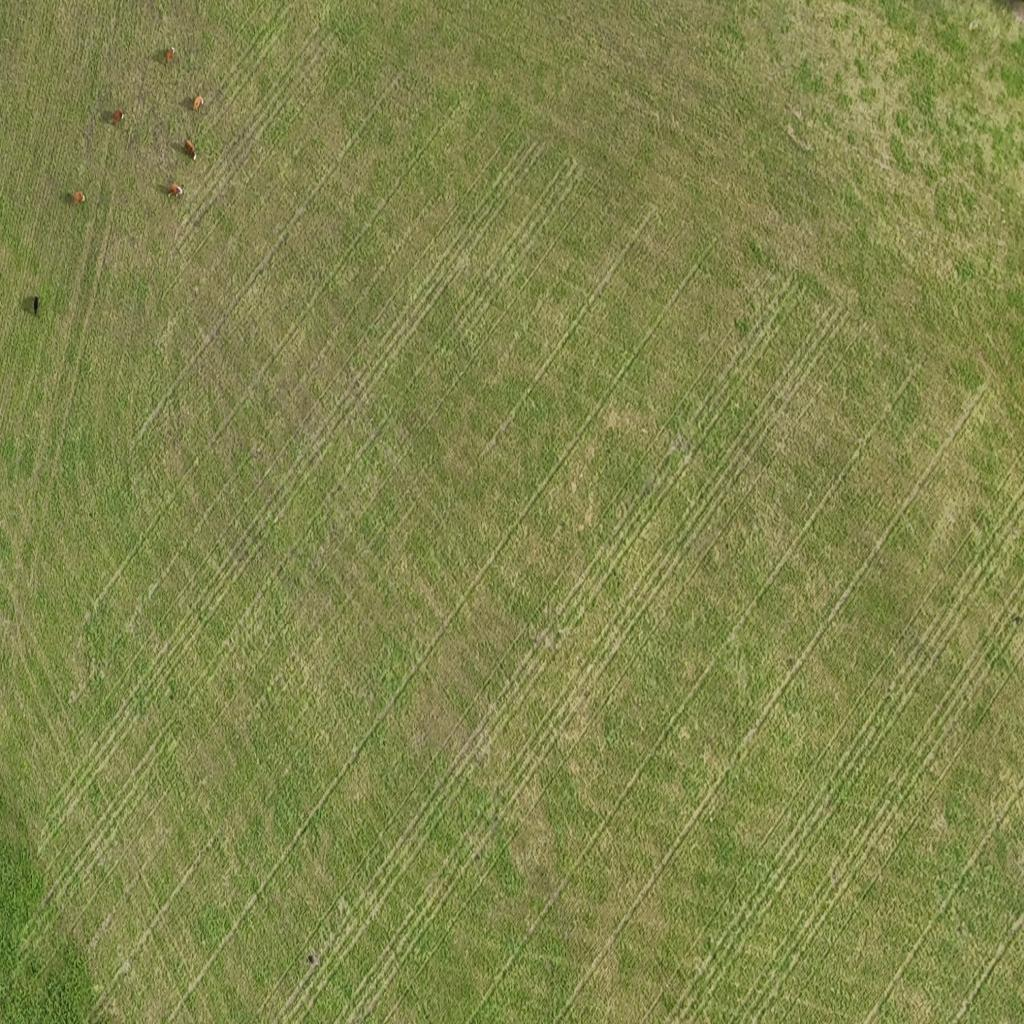cow: (69, 190, 86, 208), (185, 138, 198, 160), (190, 93, 204, 113), (168, 183, 184, 199), (164, 47, 176, 67), (112, 110, 123, 124), (34, 295, 39, 315)
